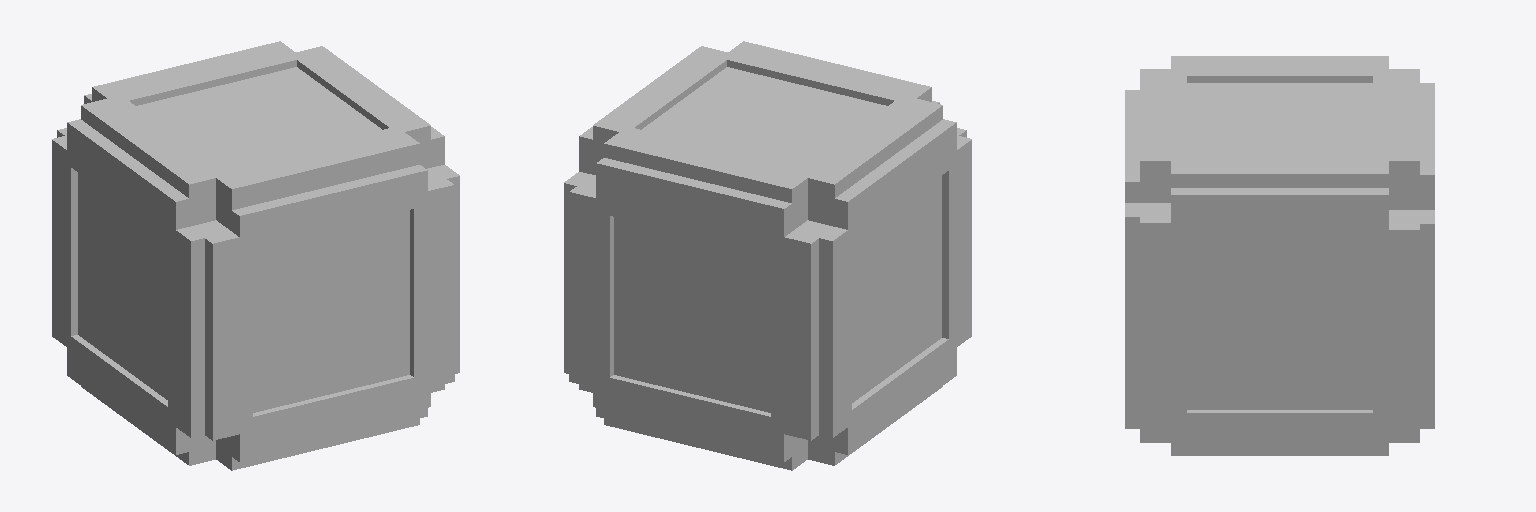
The picture shows the model from 3 angles: view 1: azimuth 30°, elevation 25°; view 2: azimuth 150°, elevation 25°; view 3: azimuth 270°, elevation 25°; orthographic projection.
Visible parts, largest first — view 1: 당근 블럭; view 2: 당근 블럭; view 3: 당근 블럭.
Part boxes in pixels (left/top/right/bottom): 당근 블럭: left=52, top=41, right=459, bottom=470; 당근 블럭: left=564, top=41, right=971, bottom=470; 당근 블럭: left=1125, top=56, right=1434, bottom=455.
Size of the model in its own units: 40 by 40 by 40.